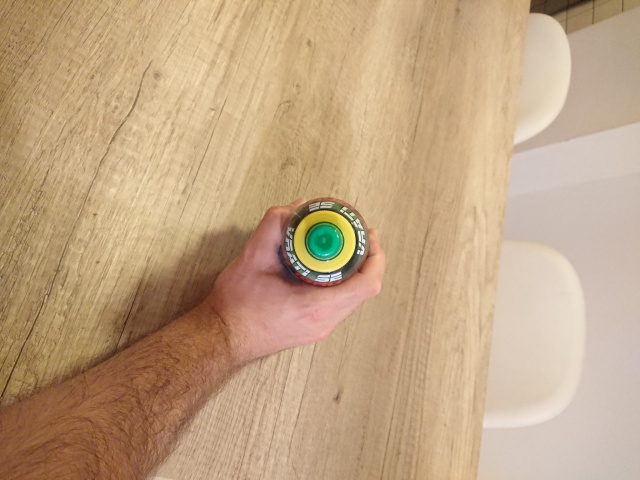Vindi Iso Sport Forest Strawberries 500mL: (279, 194, 372, 290)
